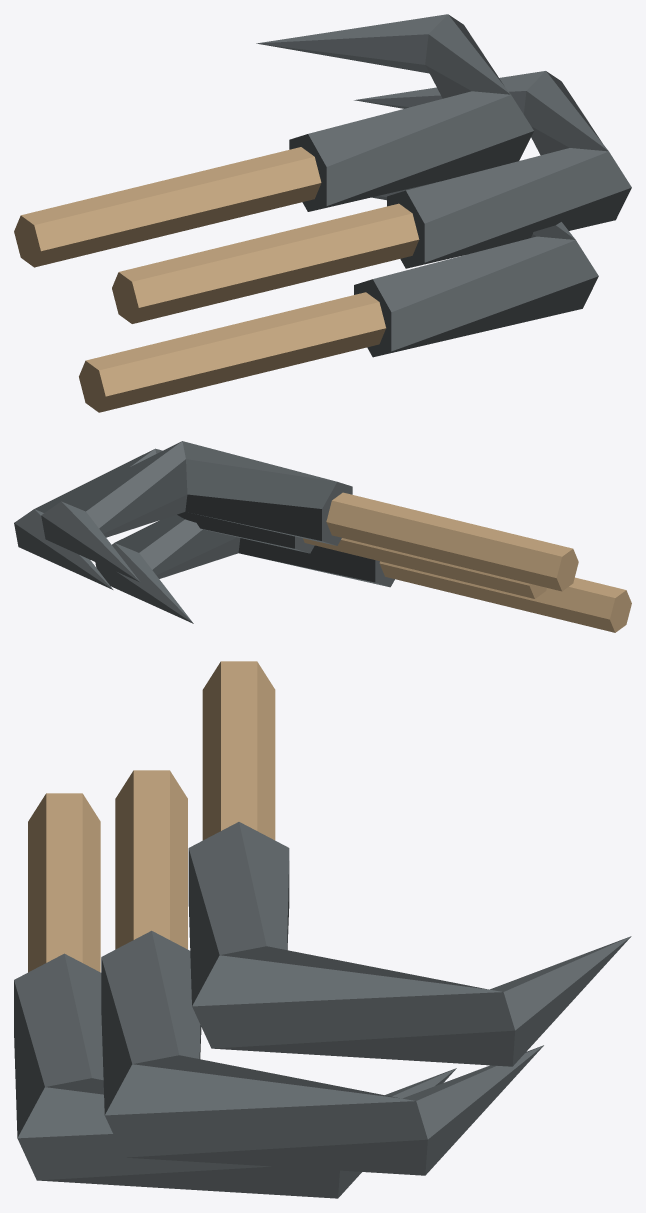
Rendered from item_051_sickle_m.glb.
3 renders of one model, top to bottom at view 1: azimuth 30°, elevation 25°; view 2: azimuth 150°, elevation 25°; view 3: azimuth 270°, elevation 25°, orthographic. The views are drawn at different scales.
Parts seen in each view (by area): view 1: item_051_sickle_m; view 2: item_051_sickle_m; view 3: item_051_sickle_m.
Boxes of the visible parts, x1,y1,x2,y2 form: item_051_sickle_m: (14, 14, 631, 412); item_051_sickle_m: (14, 441, 631, 632); item_051_sickle_m: (14, 661, 631, 1198).
Size of the model in its own units: 0.6464 by 0.18 by 0.4246.
